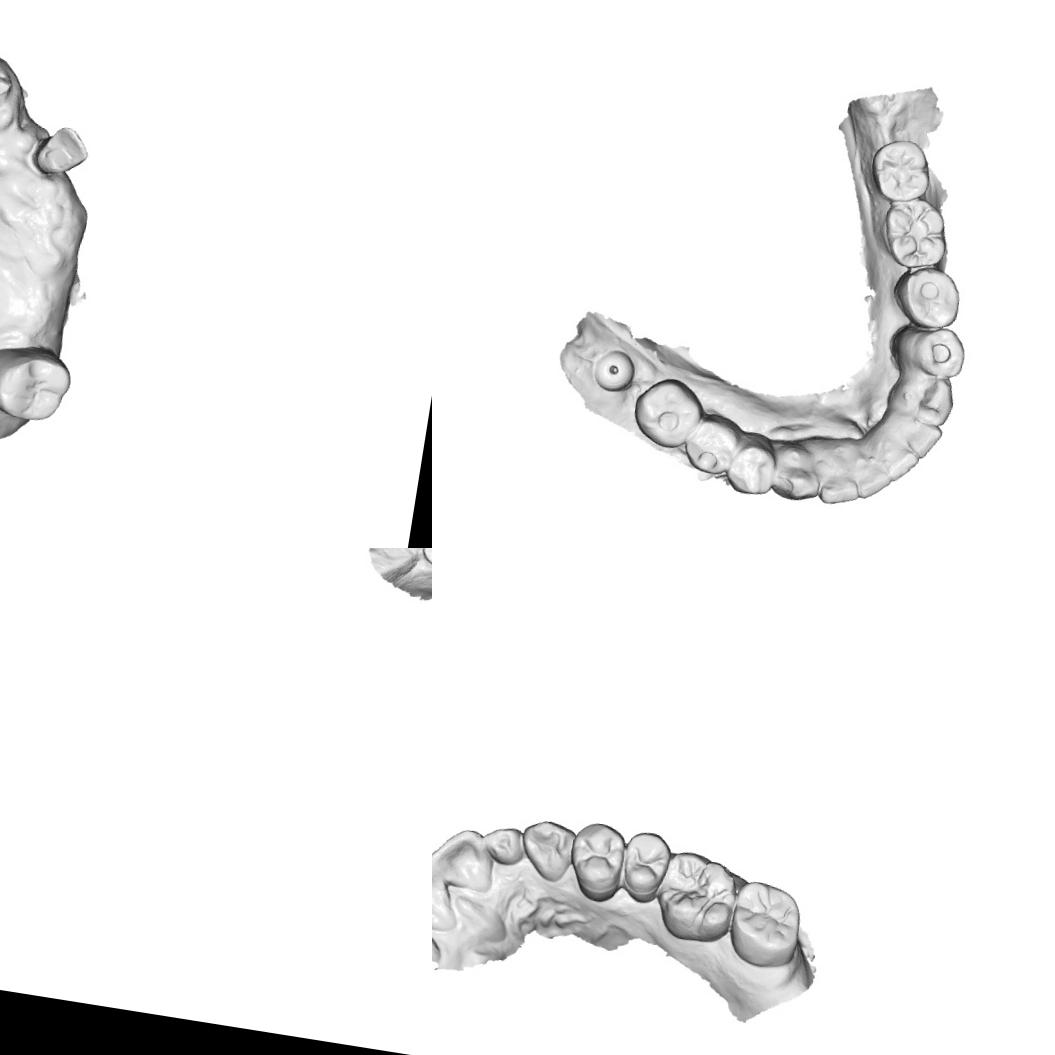canine: (514, 812, 578, 887), (894, 370, 955, 430), (769, 441, 825, 503)
implant: (591, 344, 640, 398)
incisor: (432, 820, 501, 896), (29, 122, 92, 184), (432, 863, 466, 934), (896, 415, 946, 463), (852, 454, 897, 504), (477, 821, 523, 869), (816, 463, 862, 510), (878, 440, 922, 484)
molar: (651, 845, 745, 949), (723, 876, 807, 974), (0, 336, 78, 427), (628, 371, 704, 452), (863, 134, 940, 211), (878, 196, 950, 272)
premolar: (562, 816, 633, 907), (614, 826, 676, 907), (898, 321, 973, 386), (894, 264, 965, 332), (682, 410, 746, 485), (725, 437, 780, 497)
